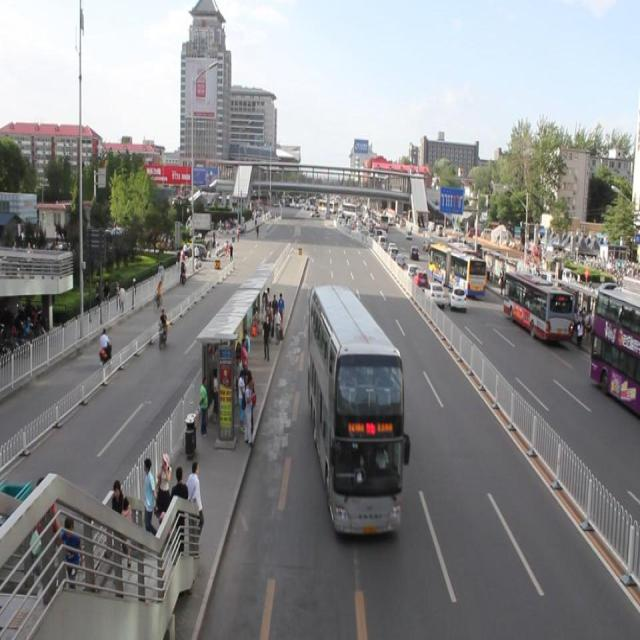van: (306, 284, 410, 540)
